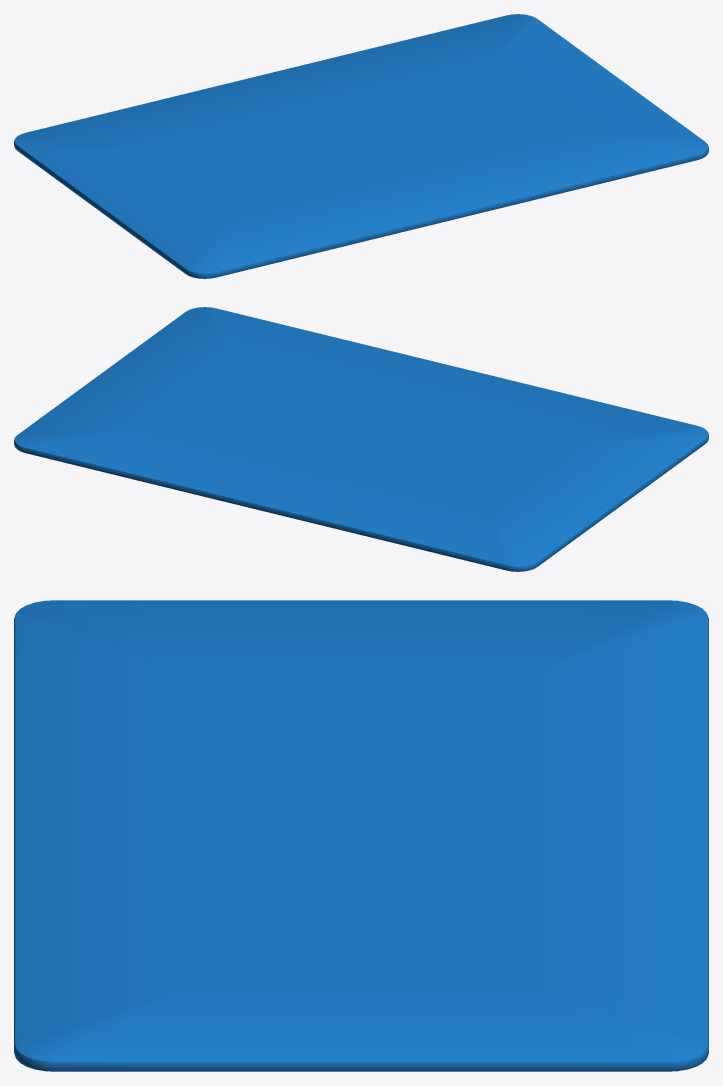
Rendered from SM_TopUpCard.glb.
3 views of the same model, one above another, from view 1: azimuth 30°, elevation 25°; view 2: azimuth 150°, elevation 25°; view 3: azimuth 270°, elevation 25° (orthographic). The views are drawn at different scales.
Parts seen in each view (by area): view 1: SM_TopUpCard; view 2: SM_TopUpCard; view 3: SM_TopUpCard.
Part boxes in pixels (x1,y1,x2,y2): SM_TopUpCard: [14, 14, 708, 278]; SM_TopUpCard: [14, 307, 708, 571]; SM_TopUpCard: [14, 600, 708, 1071].
Bounding box in the file's own units: 0.085 × 0.001 × 0.054.
